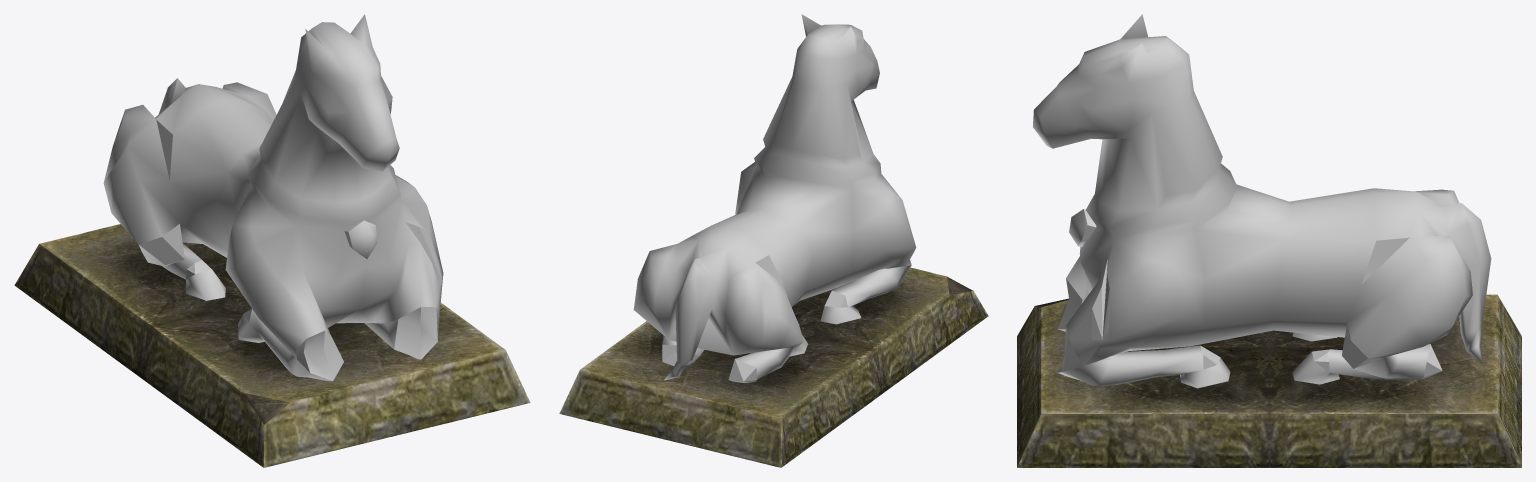
File: shima_ly_61.FBX
3 views of the same model, side by side, from view 1: azimuth 30°, elevation 25°; view 2: azimuth 150°, elevation 25°; view 3: azimuth 270°, elevation 25° (orthographic). The views are drawn at different scales.
Parts seen in each view (by area): view 1: shima_ly_61_zhuti, shima_ly_61_dizuo; view 2: shima_ly_61_zhuti, shima_ly_61_dizuo; view 3: shima_ly_61_zhuti, shima_ly_61_dizuo.
Part boxes in pixels (<box>): shima_ly_61_zhuti: <box>103,14,443,381</box>; shima_ly_61_dizuo: <box>14,224,530,467</box>; shima_ly_61_zhuti: <box>633,14,916,382</box>; shima_ly_61_dizuo: <box>559,267,988,467</box>; shima_ly_61_zhuti: <box>1033,14,1491,388</box>; shima_ly_61_dizuo: <box>1017,294,1521,467</box>.
Size of what is drawn, in the model's own units: 209 by 277 by 339.
